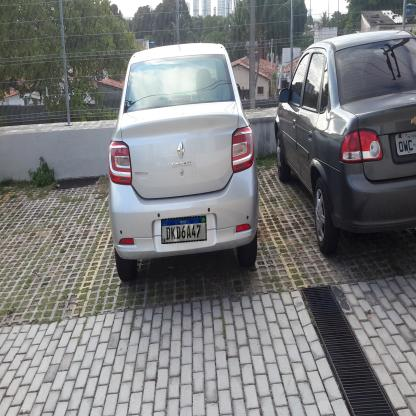PlacaM: (161, 216, 207, 244)
